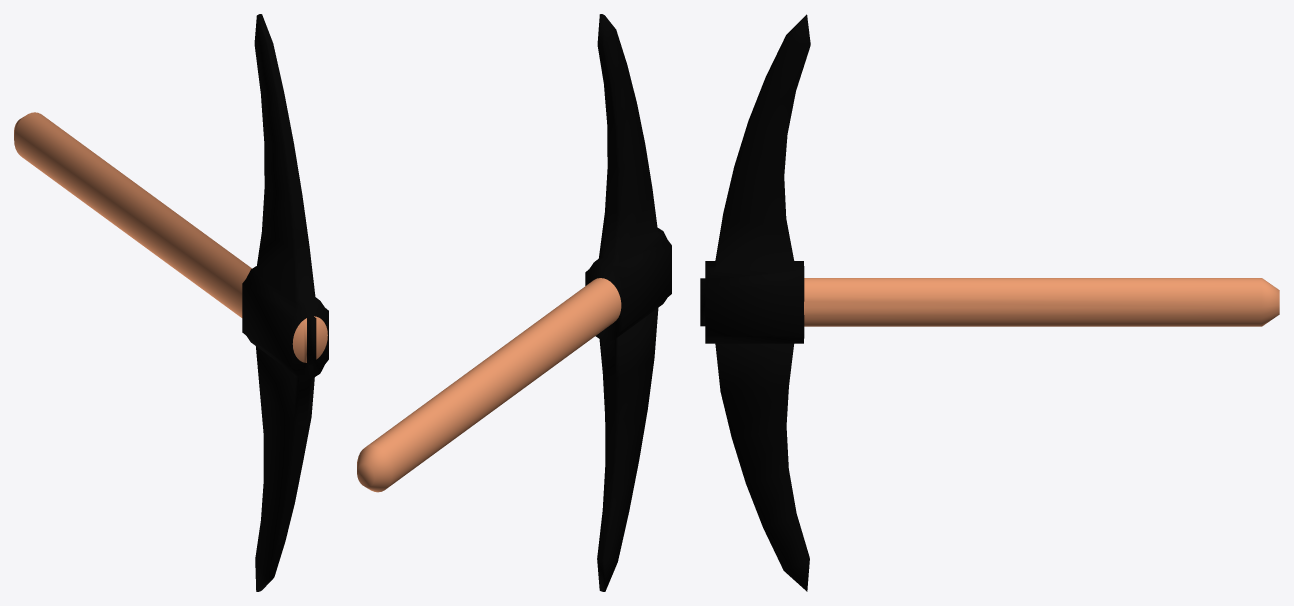
File: pickaxe.fbx
3 views of the same model, side by side, from view 1: azimuth 30°, elevation 25°; view 2: azimuth 150°, elevation 25°; view 3: azimuth 270°, elevation 25° (orthographic).
Visible parts, largest first — view 1: Cylinder; view 2: Cylinder; view 3: Cylinder.
Part boxes in pixels (bbox=[...]): Cylinder: bbox=[14, 14, 328, 591]; Cylinder: bbox=[357, 14, 671, 591]; Cylinder: bbox=[700, 14, 1279, 591].
Size of the model in its own units: 170 by 2516 by 2290.
